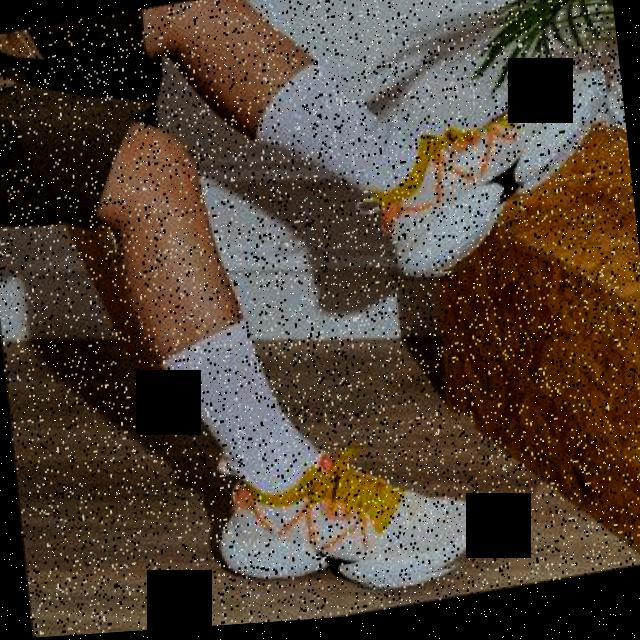shoe: (209, 416, 490, 618), (369, 76, 622, 290)
